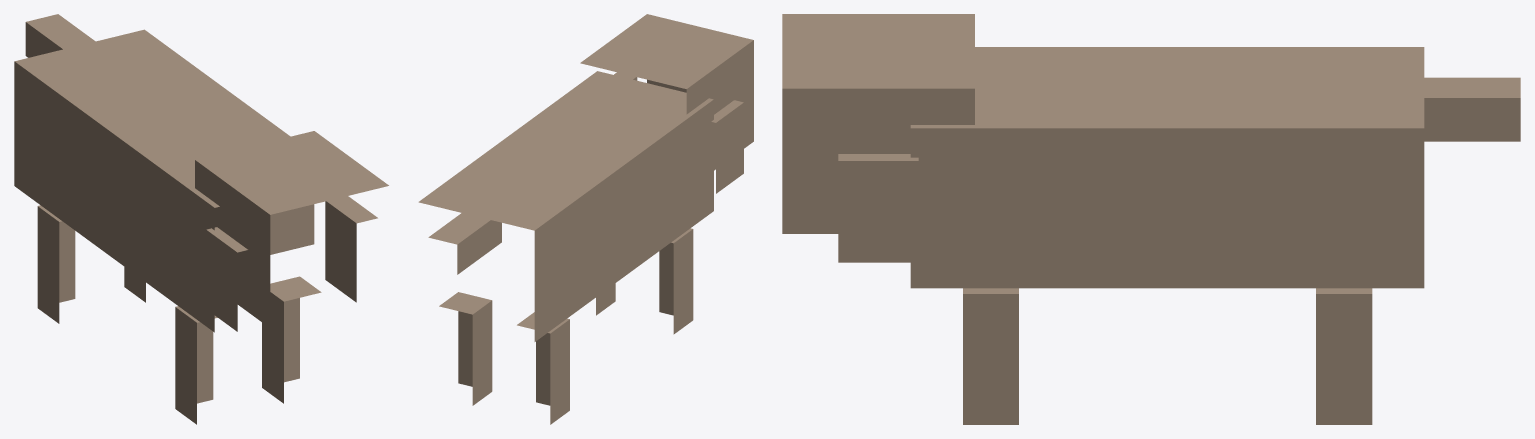
File: dog.gltf
The picture shows the model from 3 angles, left to right: view 1: azimuth 30°, elevation 25°; view 2: azimuth 150°, elevation 25°; view 3: azimuth 270°, elevation 25°; orthographic projection. The views are drawn at different scales.
Visible parts, largest first — view 1: Dog; view 2: Dog; view 3: Dog.
Part boxes in pixels (x1,y1,x2,y2): Dog: (14,14,388,424); Dog: (418,14,753,424); Dog: (782,14,1520,424).
Size of the model in its own units: 0.26 by 0.46 by 0.92.
